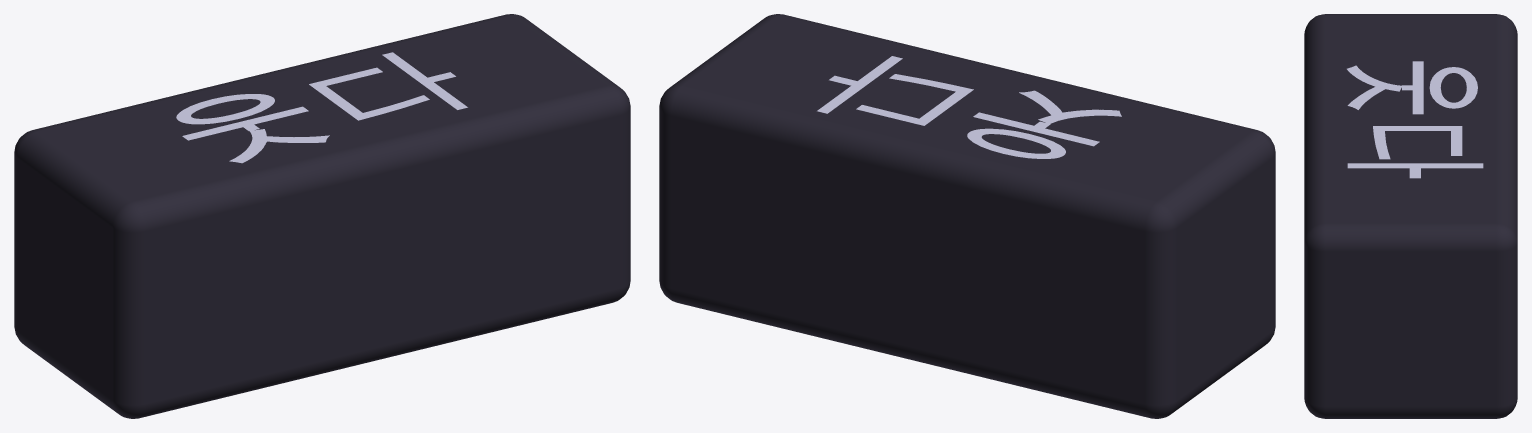
Rendered from smile.glb.
The picture shows the model from 3 angles, left to right: view 1: azimuth 30°, elevation 25°; view 2: azimuth 150°, elevation 25°; view 3: azimuth 270°, elevation 25°; orthographic projection. The views are drawn at different scales.
Visible parts, largest first — view 1: Cut, Extrude; view 2: Cut, Extrude; view 3: Cut, Extrude.
Part boxes in pixels (<box>): Cut: <box>14,14,630,418</box>; Extrude: <box>176,52,467,163</box>; Cut: <box>659,14,1275,418</box>; Extrude: <box>817,56,1121,158</box>; Cut: <box>1304,14,1517,418</box>; Extrude: <box>1347,61,1483,178</box>.
Size of the model in its own units: 5 by 2 by 2.
